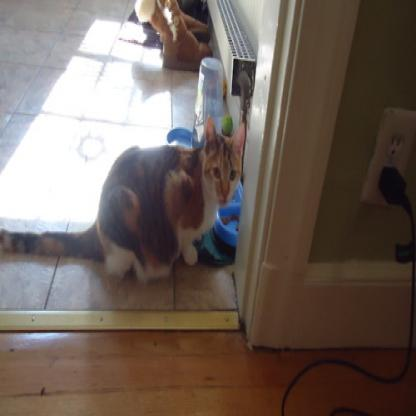Target: (1, 113, 247, 281)
